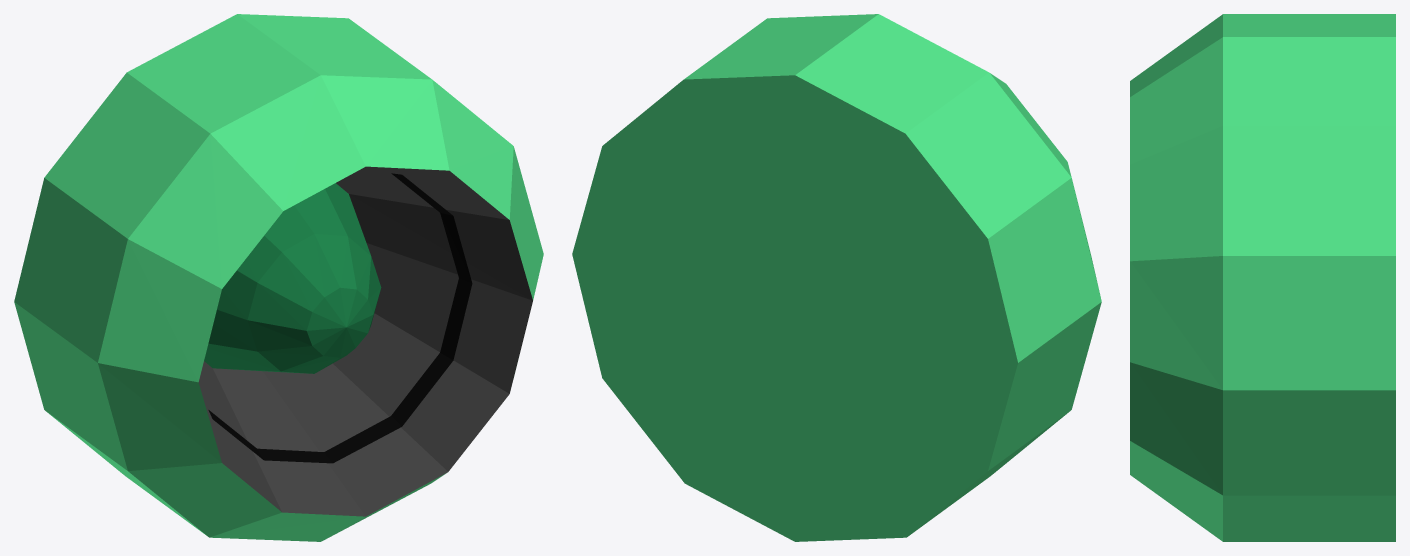
Rendered from Engine.FBX.
3 renders of one model, left to right at view 1: azimuth 30°, elevation 25°; view 2: azimuth 150°, elevation 25°; view 3: azimuth 270°, elevation 25°, orthographic. The views are drawn at different scales.
Parts seen in each view (by area): view 1: VIFS001, VIFS002, VIFS003, VIFS004; view 2: VIFS001; view 3: VIFS001.
Boxes of the visible parts, x1,y1,x2,y2 form: VIFS001: [14, 14, 543, 541]; VIFS002: [198, 166, 532, 516]; VIFS003: [204, 183, 381, 373]; VIFS004: [208, 173, 472, 463]; VIFS001: [572, 14, 1101, 541]; VIFS001: [1130, 14, 1395, 541].
Bounding box in the file's own units: 0.4 × 0.4 × 0.2.
